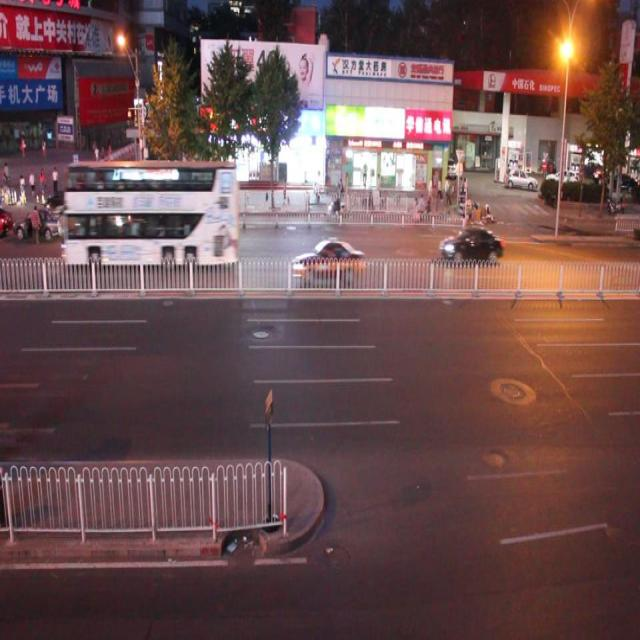bus: (153, 184, 240, 259)
car: (291, 234, 366, 286), (438, 224, 505, 268), (120, 210, 182, 251), (13, 204, 69, 248), (86, 200, 129, 242), (47, 183, 80, 219)
van: (61, 158, 240, 273)
